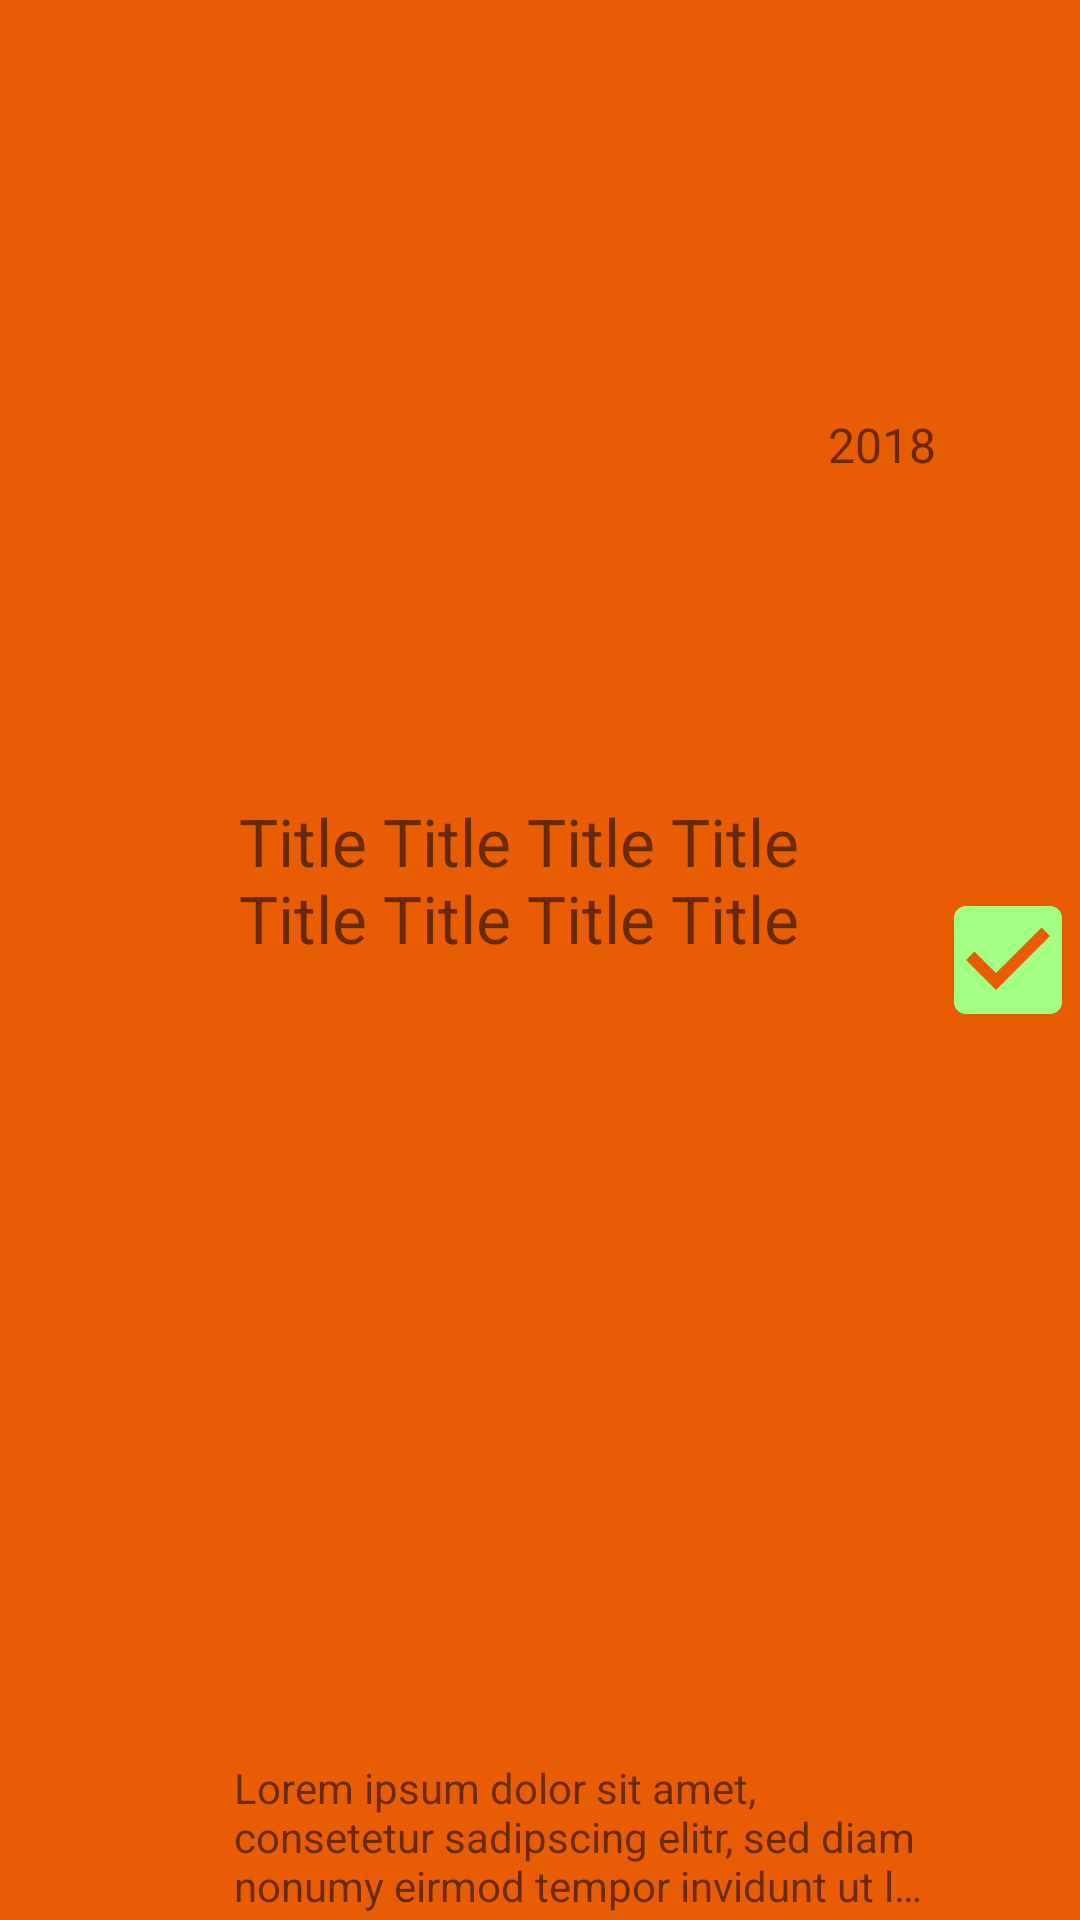

Where icons sit on this 1080px x 1920px app screen, as (x1, y1, x2, y2):
check box: (954, 906, 1062, 1014)
